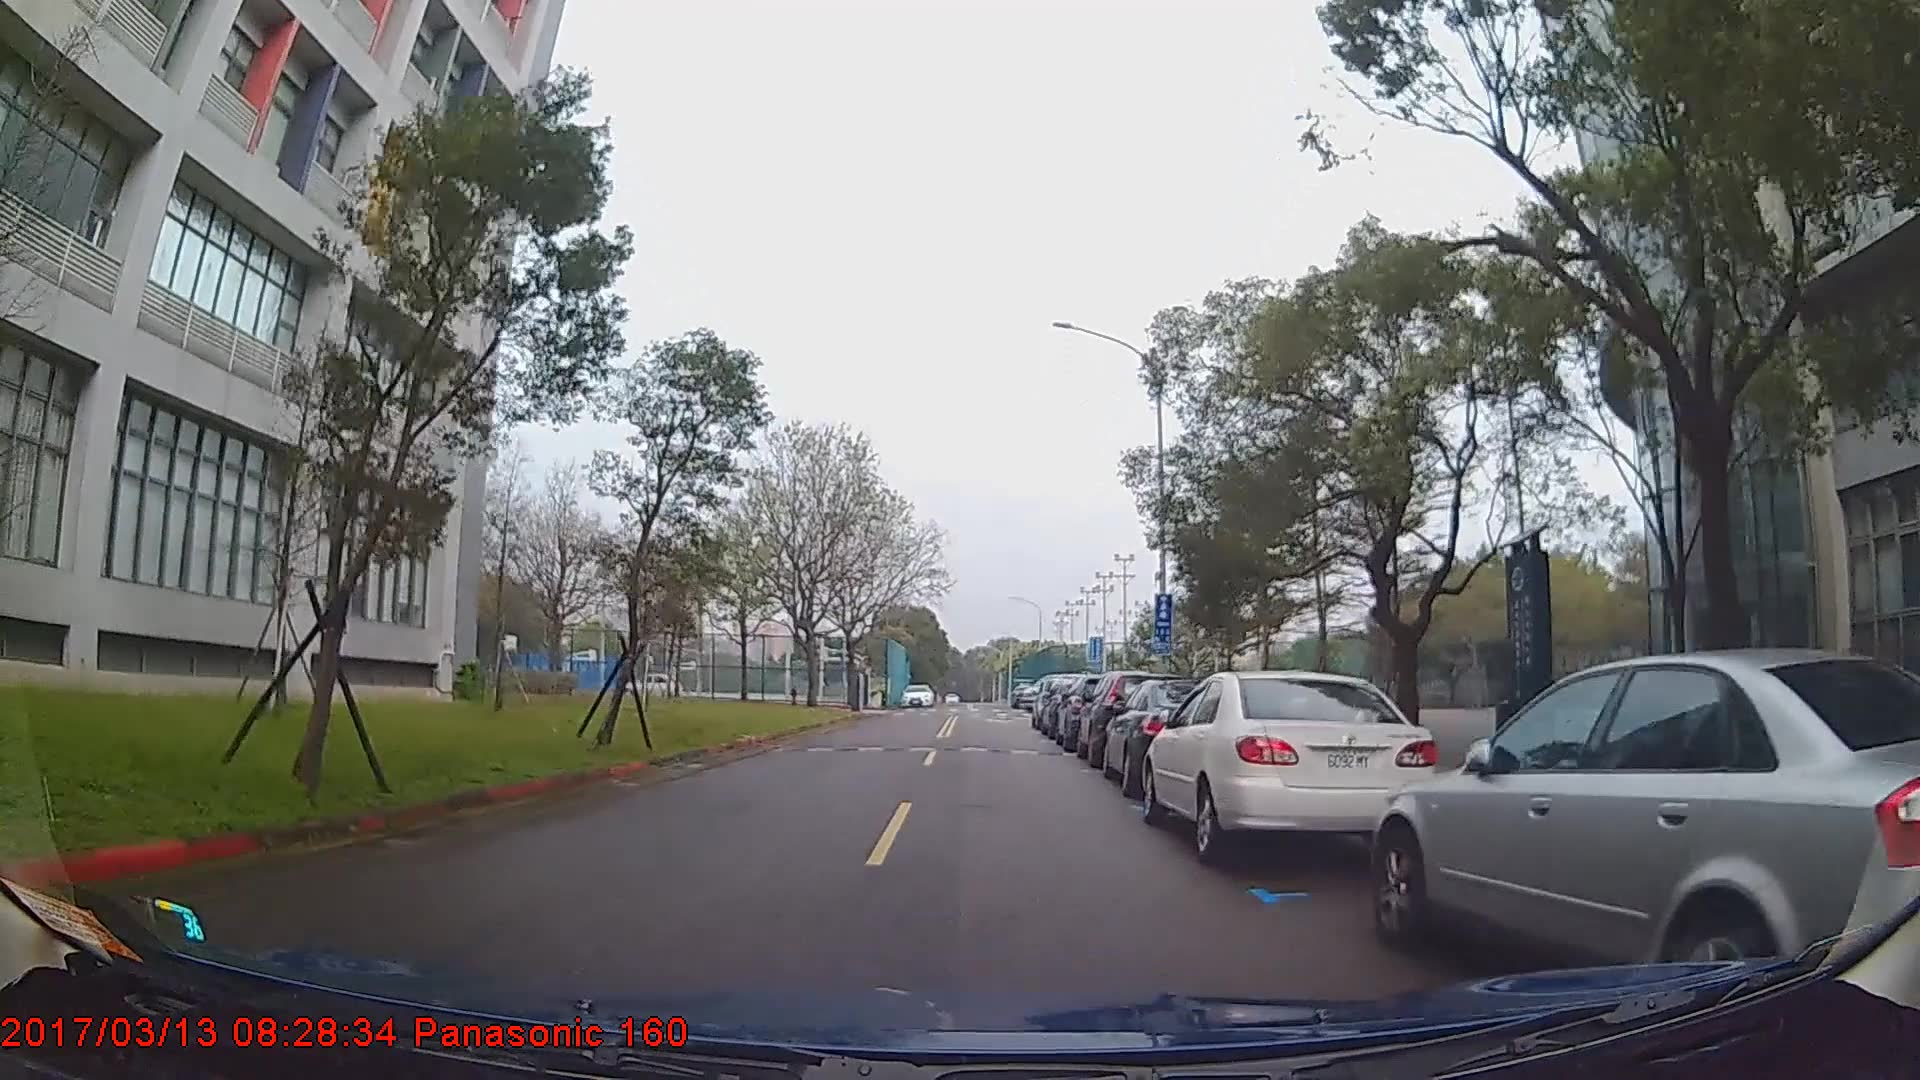vehicle: (1370, 646, 1920, 1025), (1141, 669, 1439, 866), (1101, 676, 1237, 800), (615, 671, 680, 699), (899, 684, 934, 708)
